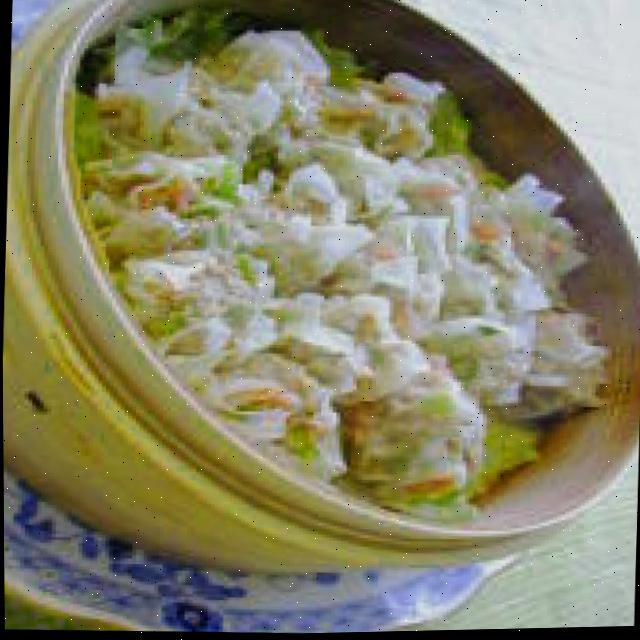带馅早点: (160, 108, 529, 397)
